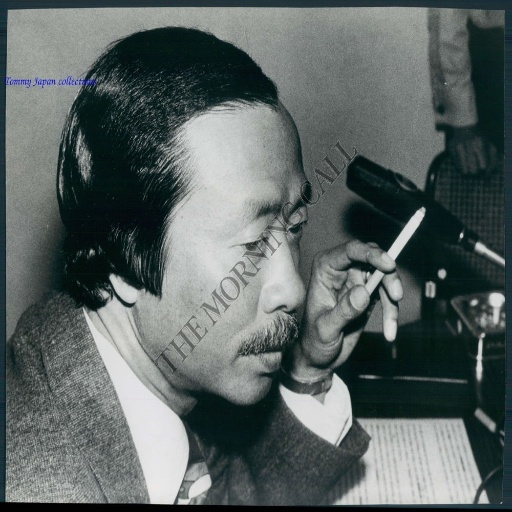hand: (300, 216, 394, 376)
